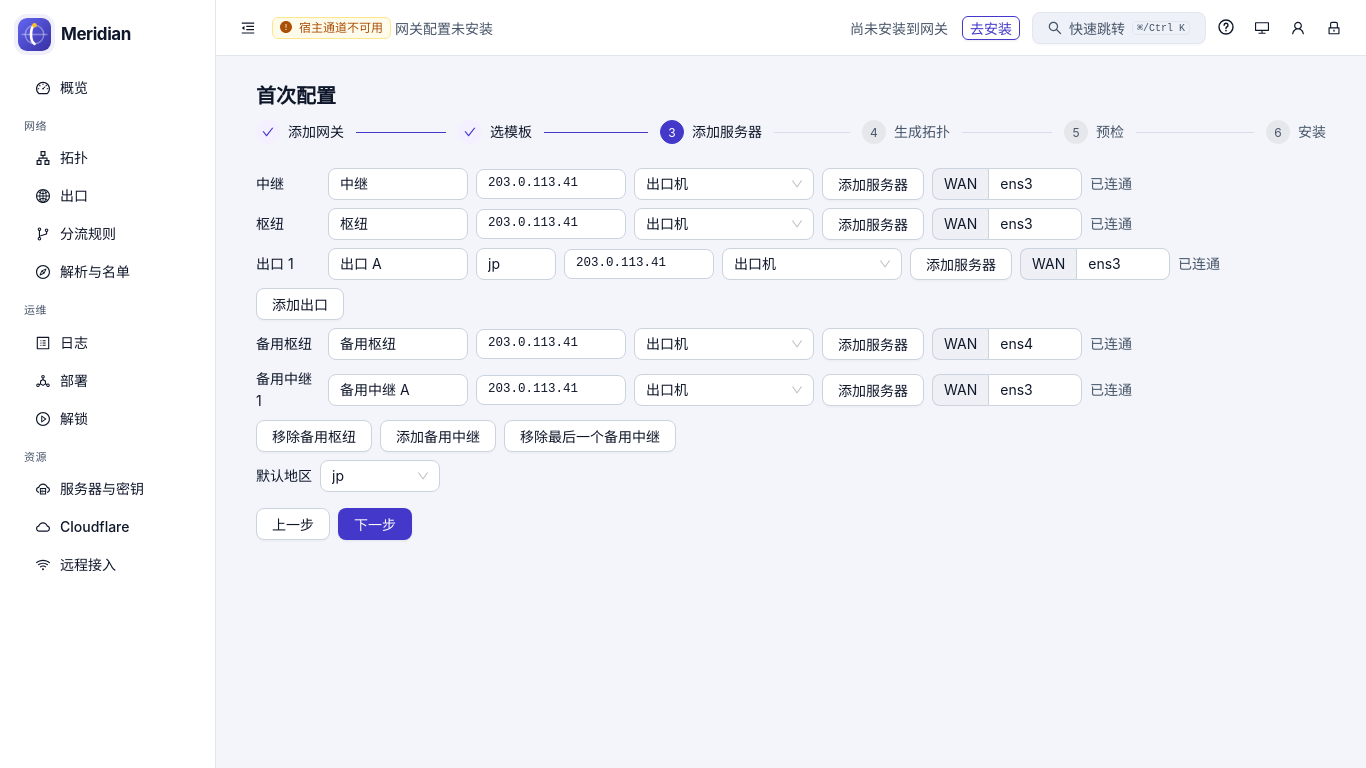
Test: setup wizard › relay_hub: optional backup hub and backup relays are asked for, saved, restored after a reload and previewed
Later steps or results of the test are not shown.
Expected: the field named "备用枢纽名称" holds "备用枢纽", 328,328 -> 468,360
Expected: the field named "备用枢纽WAN 网卡" holds "ens4", 988,328 -> 1082,360
Click the button "添加备用中继". click: (438, 436)
box: 380,420 -> 496,452
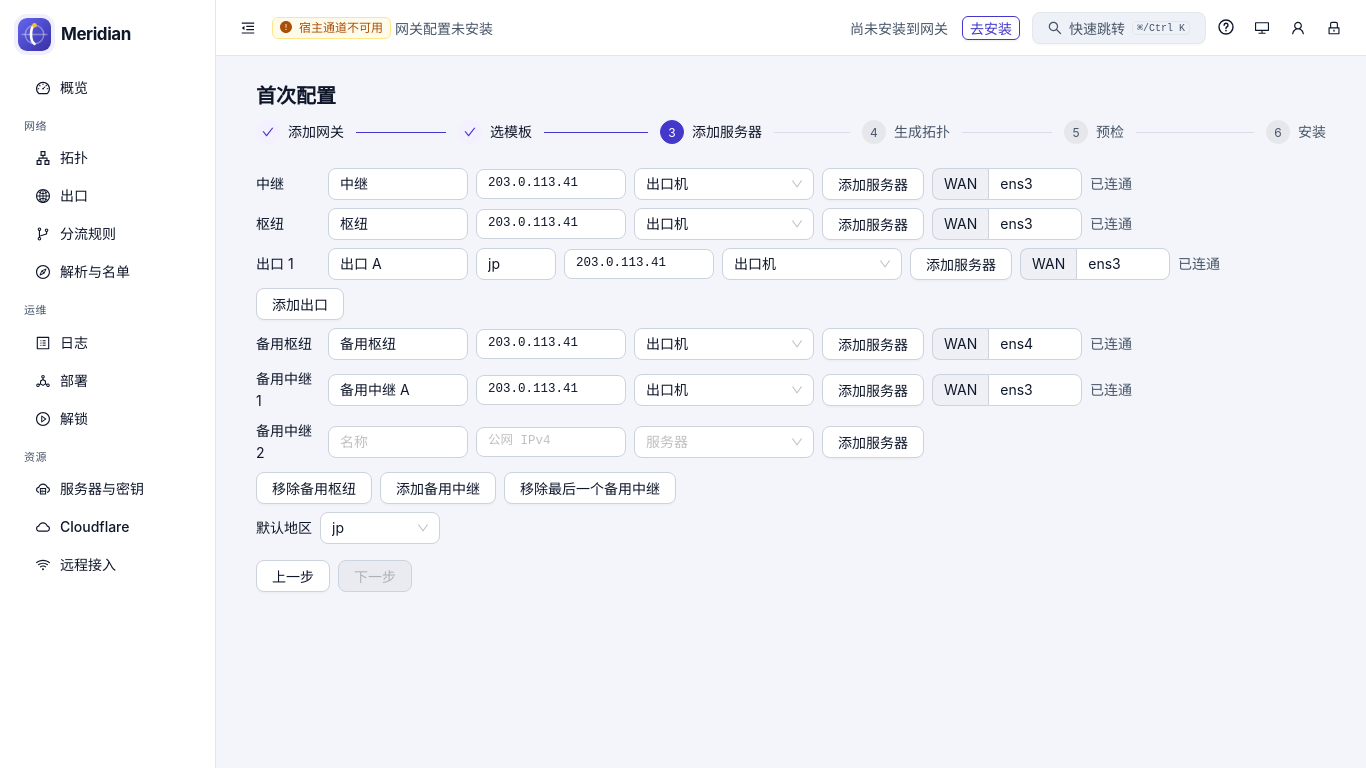
Result: the button "下一步" is disabled at 338,560 -> 412,592
Click the button "移除最后一个备用中继". click: (590, 488)
box: 504,472 -> 676,504
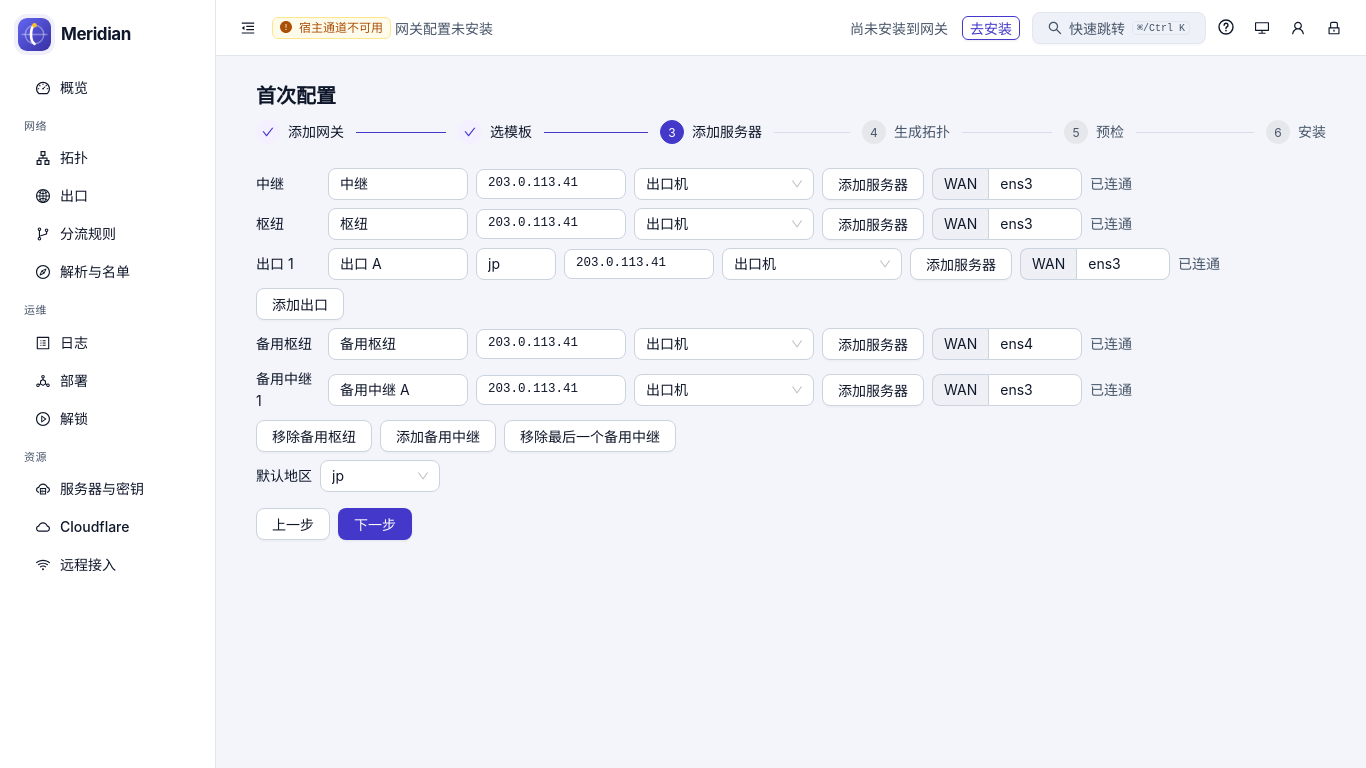
Result: the button "下一步" is enabled
Click the button "下一步". click: (375, 524)
box: 338,508 -> 412,540
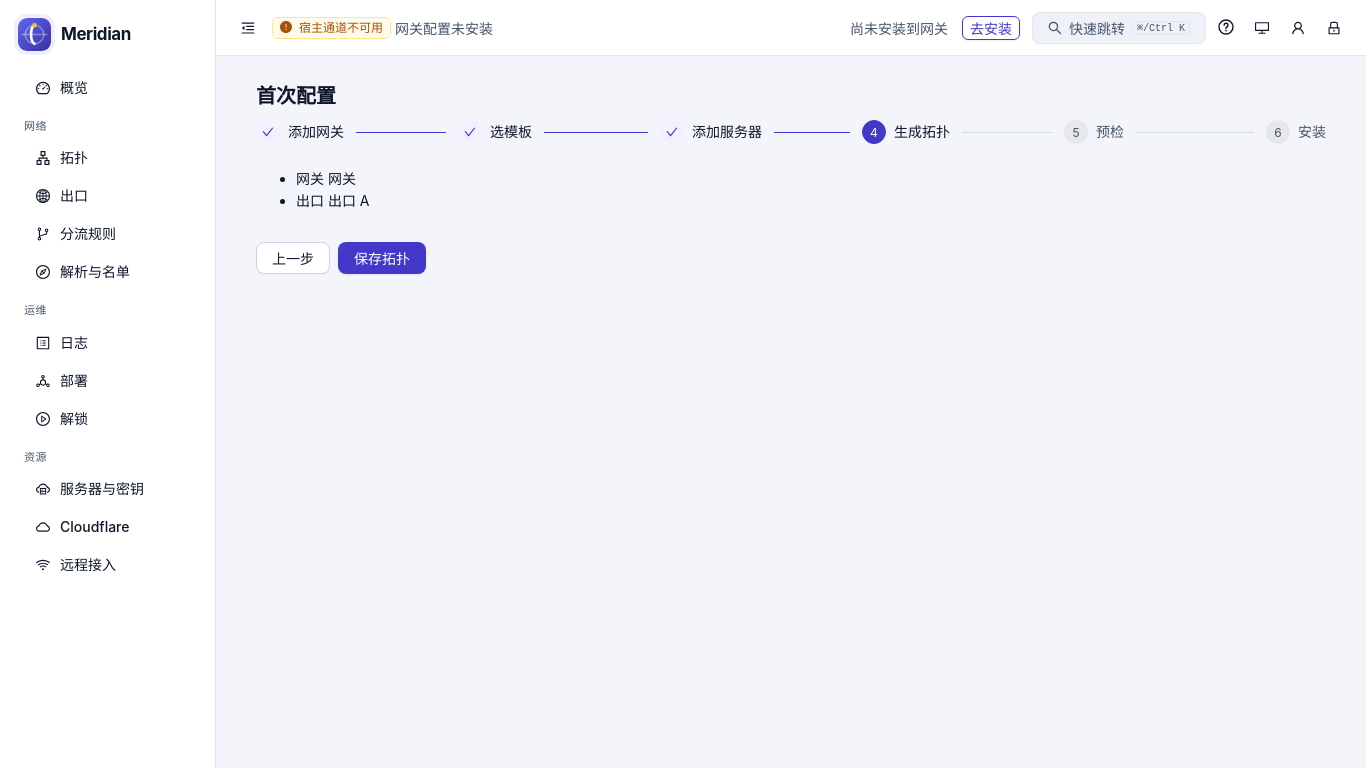
Result: the element with test id "wizard-preview" is shown at 296,170 -> 370,209
